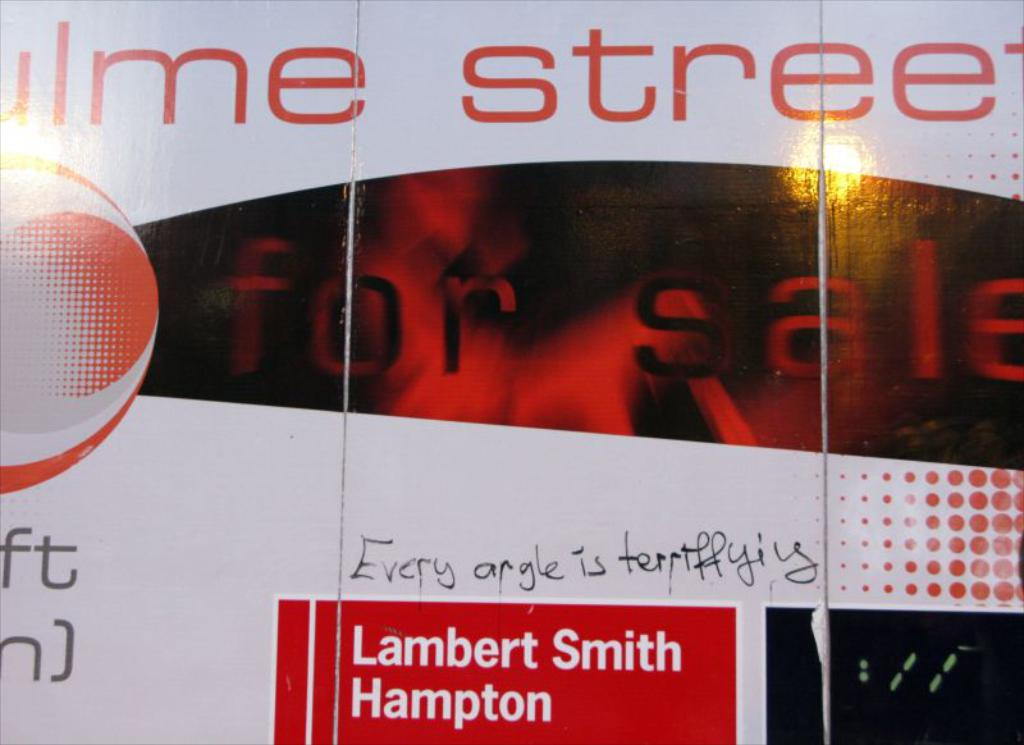Ball: (0, 147, 159, 494)
